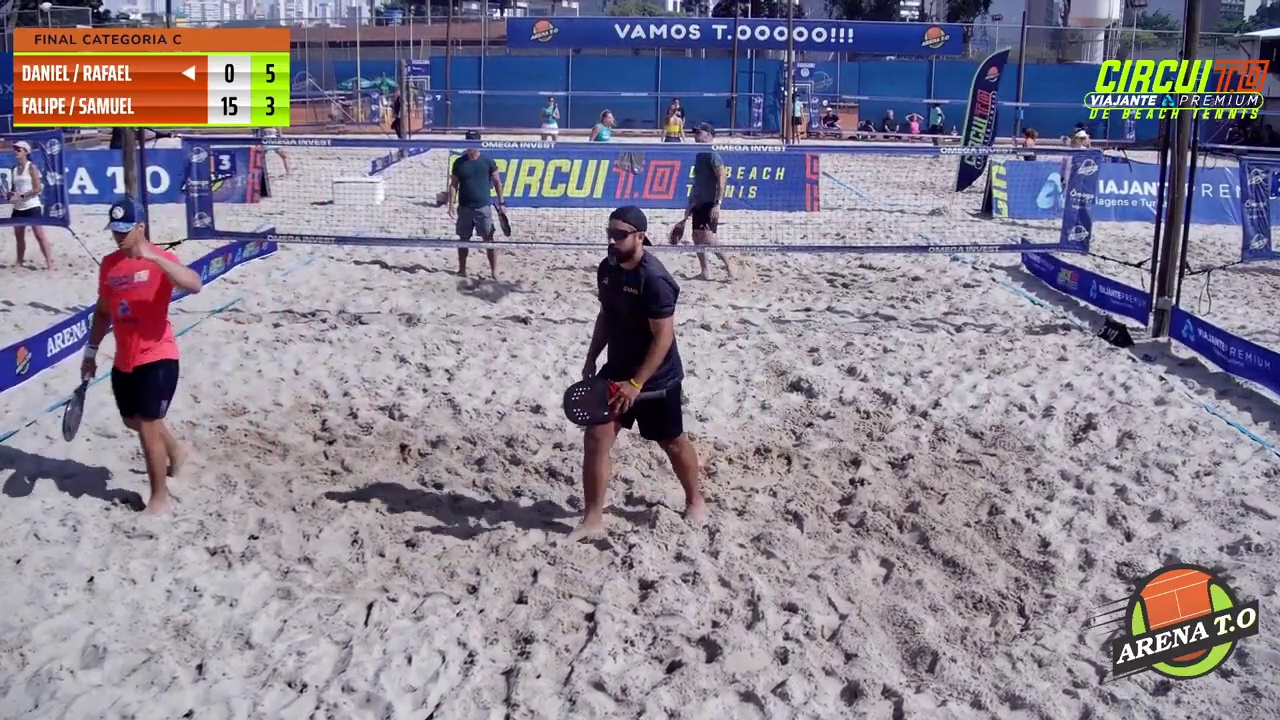court_line: (529, 0, 677, 531), (476, 0, 581, 513)
